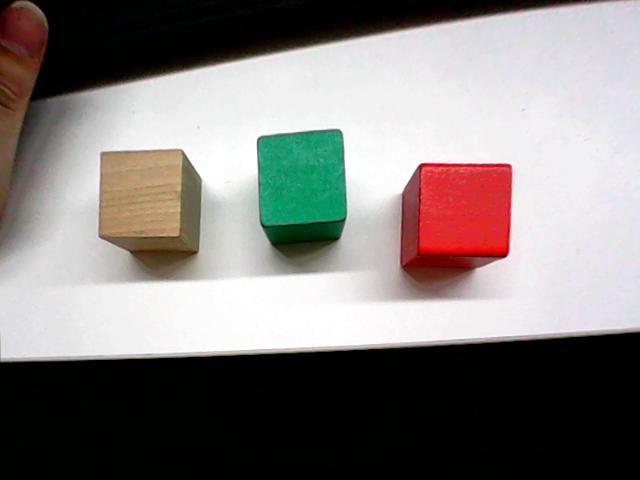green_box: (248, 125, 354, 247)
raw_box: (91, 138, 206, 270)
red_box: (400, 158, 516, 272)
